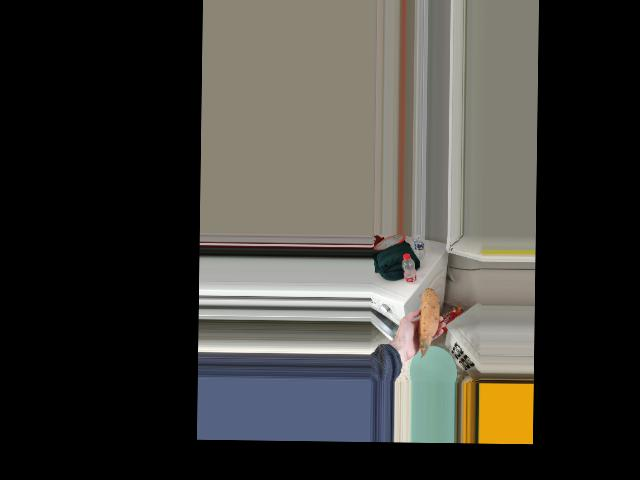sweet_potato: (416, 293, 435, 354)
